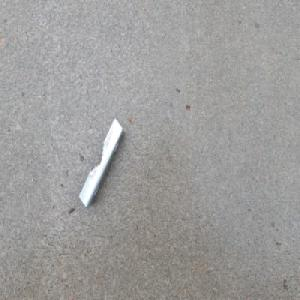ClampPart: (78, 117, 123, 209)
